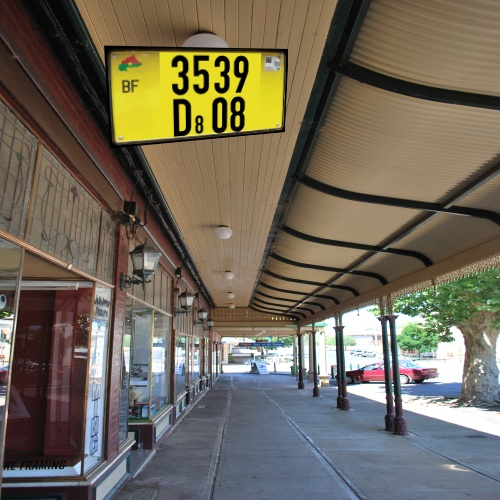plate: (95, 35, 302, 156)
